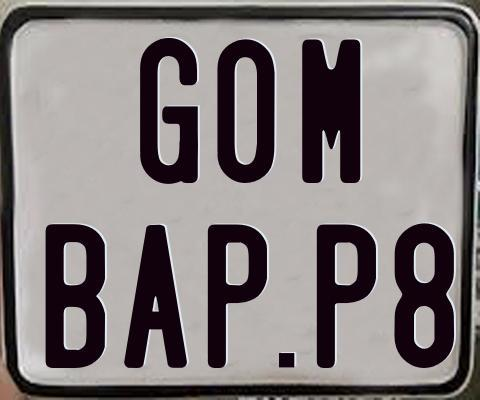0: (214, 36, 275, 186)
8: (393, 223, 453, 372)
A: (124, 225, 193, 373)
B: (43, 223, 103, 367)
G: (140, 36, 201, 186)
M: (300, 37, 361, 184)
P: (206, 222, 266, 372), (315, 224, 376, 370)
